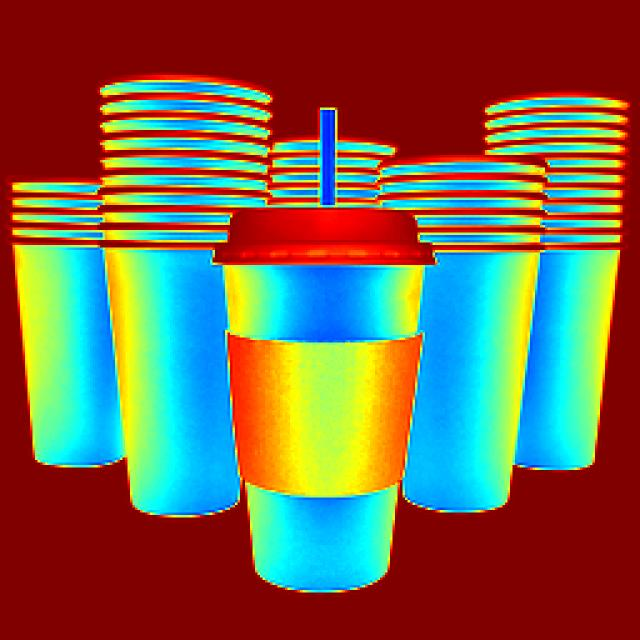Paper Cups: (207, 212, 422, 586), (96, 83, 270, 477), (485, 102, 619, 474), (394, 165, 535, 497)
